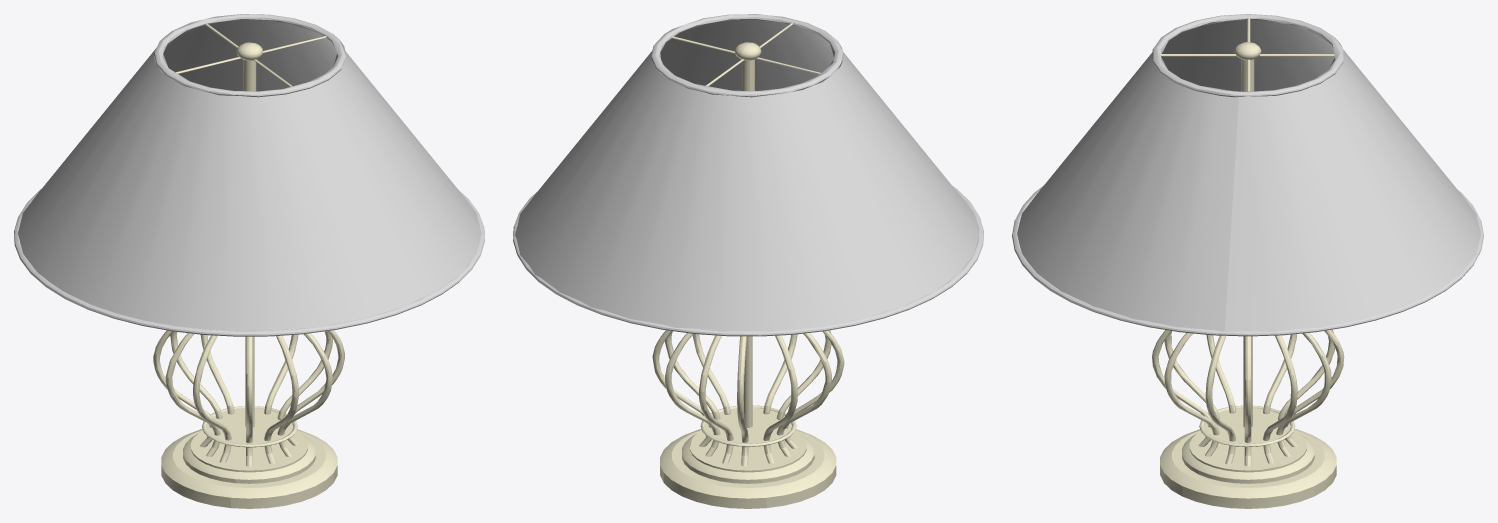
Rendered from sh-contrib-lamp2.glb.
3 views of the same model, side by side, from view 1: azimuth 30°, elevation 25°; view 2: azimuth 150°, elevation 25°; view 3: azimuth 270°, elevation 25° (orthographic).
Visible parts, largest first — view 1: lmp4shd_4_4, lmp4gold_3_3; view 2: lmp4shd_4_4, lmp4gold_3_3; view 3: lmp4shd_4_4, lmp4gold_3_3.
Boxes of the visible parts, bbox=[...] form: lmp4shd_4_4: bbox=[14, 14, 484, 336]; lmp4gold_3_3: bbox=[153, 23, 344, 508]; lmp4shd_4_4: bbox=[513, 14, 983, 336]; lmp4gold_3_3: bbox=[652, 23, 844, 508]; lmp4shd_4_4: bbox=[1012, 14, 1483, 336]; lmp4gold_3_3: bbox=[1152, 18, 1344, 508].
Size of the model in its own units: 1 by 1 by 1.
